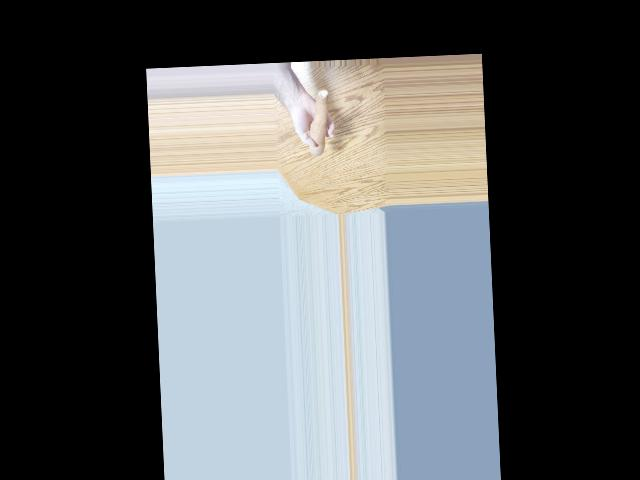sweet_potato: (306, 91, 329, 155)
